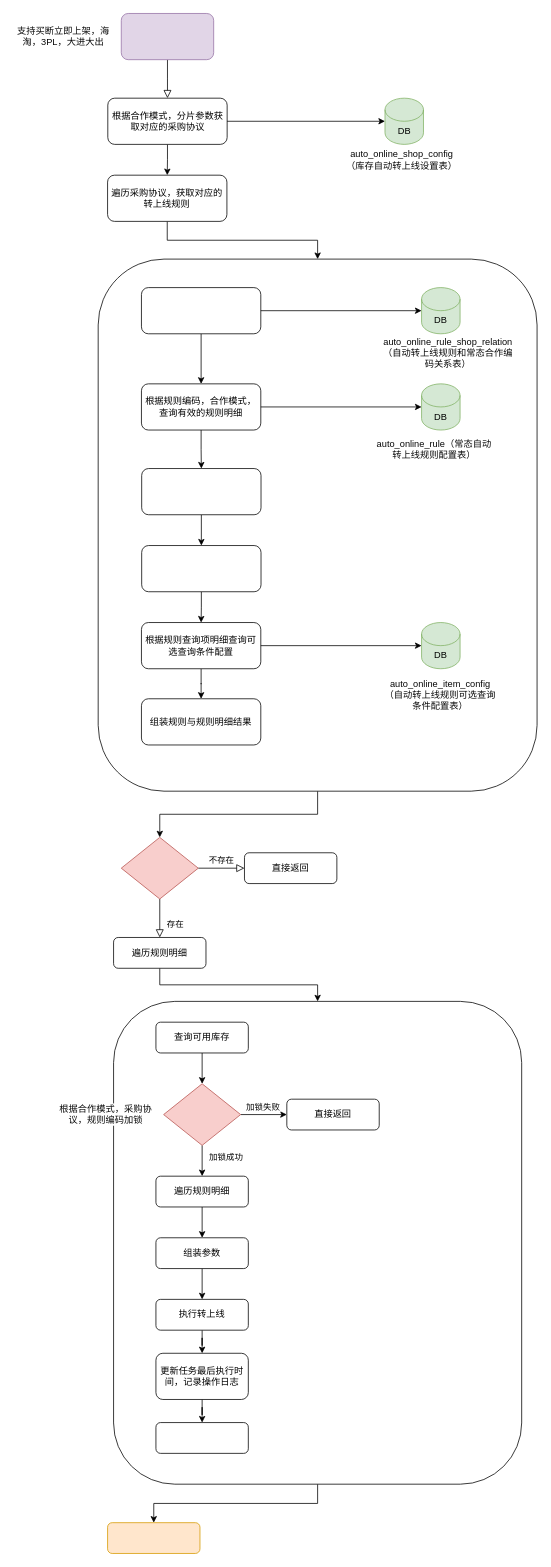
The diagram is 551 pixels wide and 1567 high, and some of its shapes have lost their labels. The centre of each missing label's shape, as x and y in pixels:
"saturn定时触发 AutoOnlineService" belongs at (167,36).
"加锁" belongs at (202,1114).
"按定时、定量计算在时间范围内的规则编码" belongs at (201,491).
"是否存在 有效规则" belongs at (159,868).
"根据规则编码查询规则查询项明细" belongs at (201,568).
"根据采购协议，查询对应得转上线规则" belongs at (201,310).
"结束" belongs at (153,1537).
"释放锁" belongs at (201,1437).
